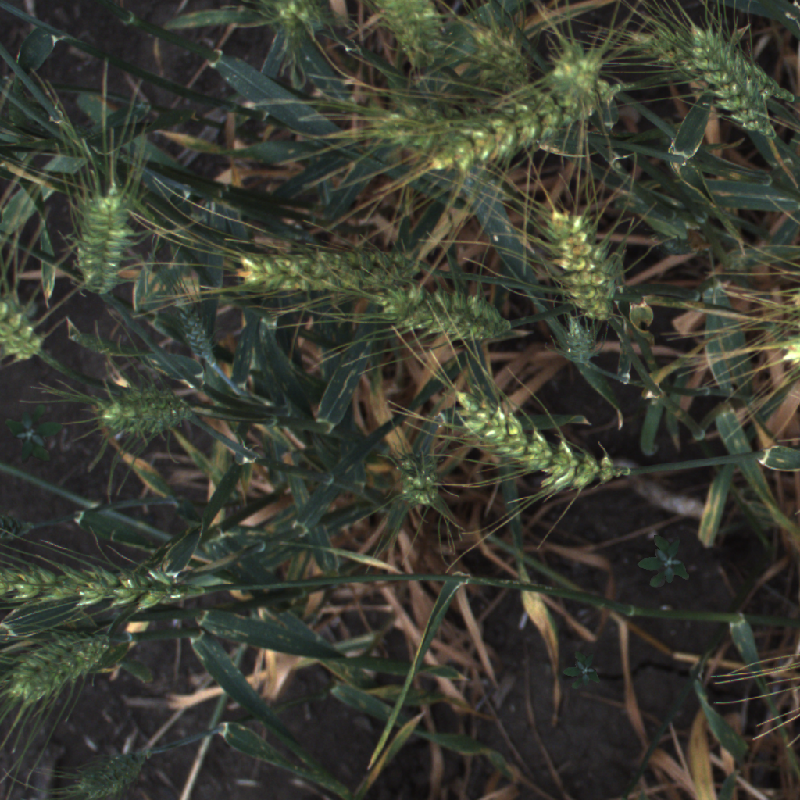spikelet: (406, 82, 610, 183), (445, 391, 631, 490), (366, 274, 519, 347), (1, 558, 199, 614), (542, 203, 627, 329), (684, 25, 778, 138), (237, 248, 432, 298), (689, 22, 794, 110), (3, 629, 112, 708), (69, 182, 142, 290), (460, 9, 535, 101), (369, 97, 488, 150), (370, 1, 449, 80), (92, 384, 190, 438), (75, 744, 149, 800), (542, 41, 611, 100), (169, 286, 219, 364), (391, 450, 449, 516), (625, 25, 706, 72), (1, 291, 46, 361), (553, 316, 603, 367), (277, 1, 334, 36), (1, 515, 31, 540)
weed: (634, 530, 696, 593), (5, 404, 63, 464), (560, 647, 605, 693)
